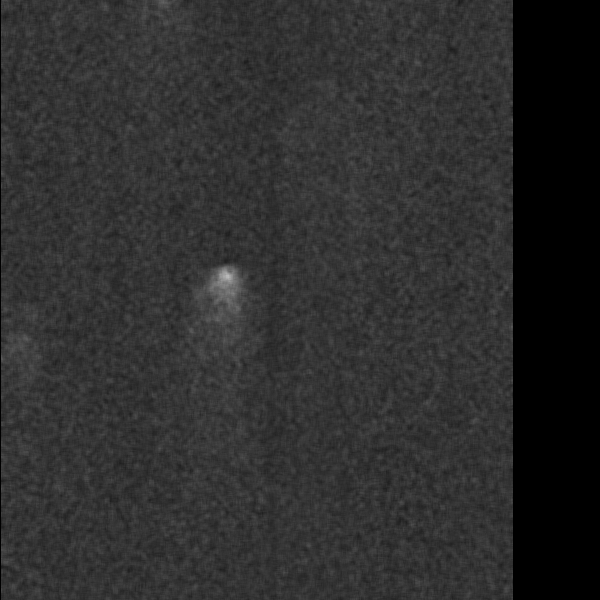spark: (212, 220, 265, 267)
